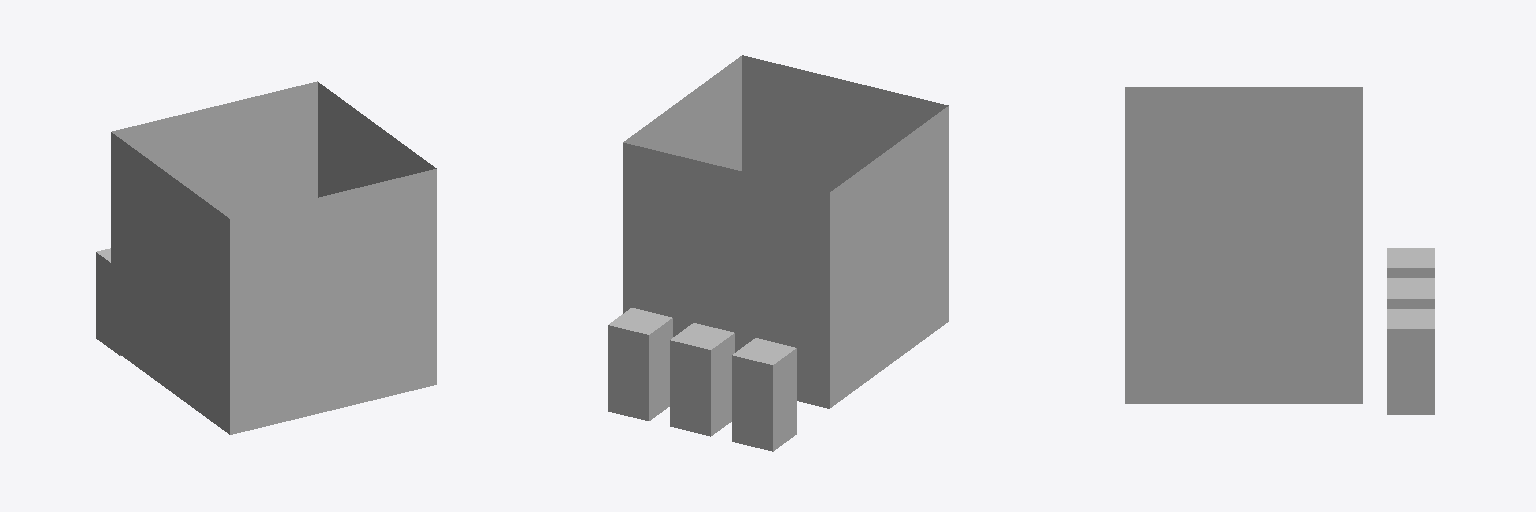
The model's file is charging_station_glass.obj.
3 renders of one model, left to right at view 1: azimuth 30°, elevation 25°; view 2: azimuth 150°, elevation 25°; view 3: azimuth 270°, elevation 25°, orthographic.
Parts seen in each view (by area): view 1: glass, tubes; view 2: glass, tubes; view 3: glass, tubes.
Part boxes in pixels (bbox=[...]): glass: bbox=[111, 81, 436, 434]; tubes: bbox=[96, 248, 120, 355]; glass: bbox=[623, 55, 948, 408]; tubes: bbox=[608, 308, 796, 451]; glass: bbox=[1125, 87, 1362, 403]; tubes: bbox=[1387, 248, 1434, 414].
Size of the model in its own units: 0.625 by 0.6875 by 0.8125.